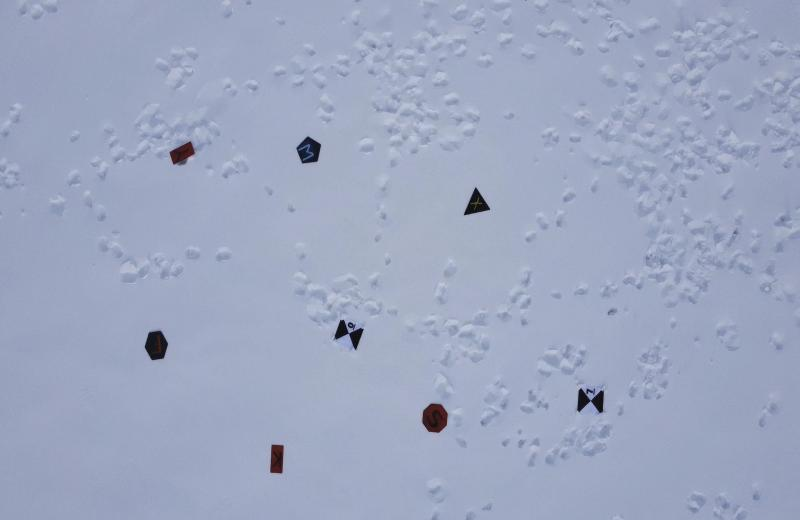Hexagon: (141, 327, 169, 361)
Octagon: (419, 400, 450, 435)
Pentagon: (292, 133, 326, 170)
Rectangle: (168, 136, 198, 167), (266, 440, 286, 477)
Triangle: (460, 182, 492, 219)
